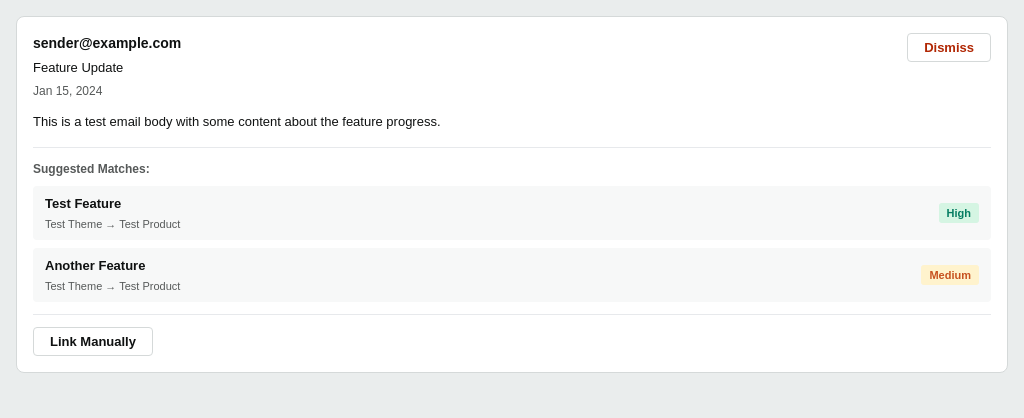
Test: ReviewQueue › Manual Linking › should close manual link form when cancel clicked
Step 1. Click the button "Link Manually" → (93, 342), box [33,327,153,356]
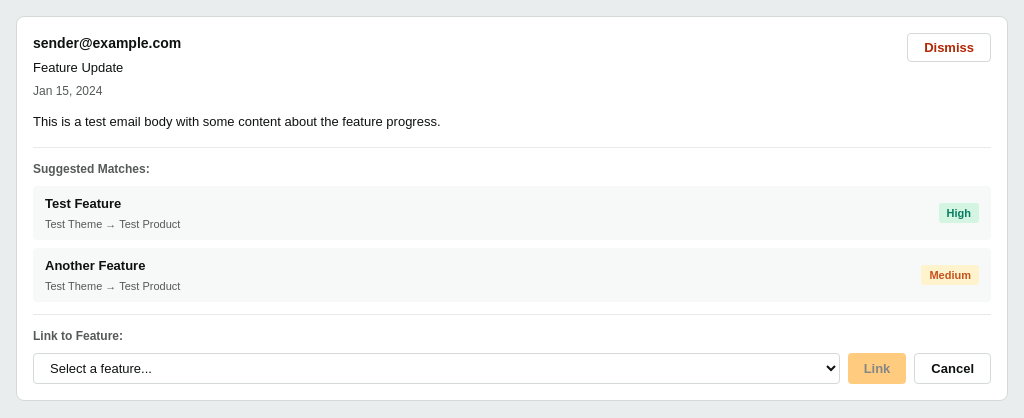
Step 2. Click the button "Cancel" → (953, 368), box [914,353,991,384]
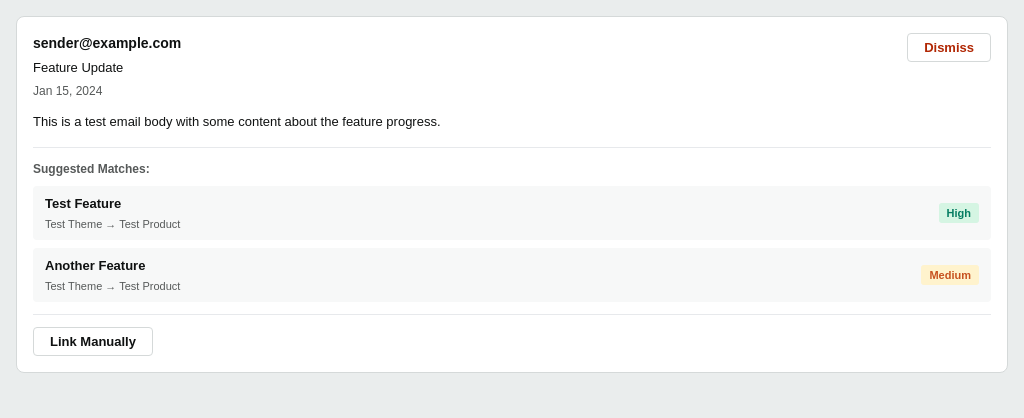
Expected: the text "Link to Feature:" is gone
